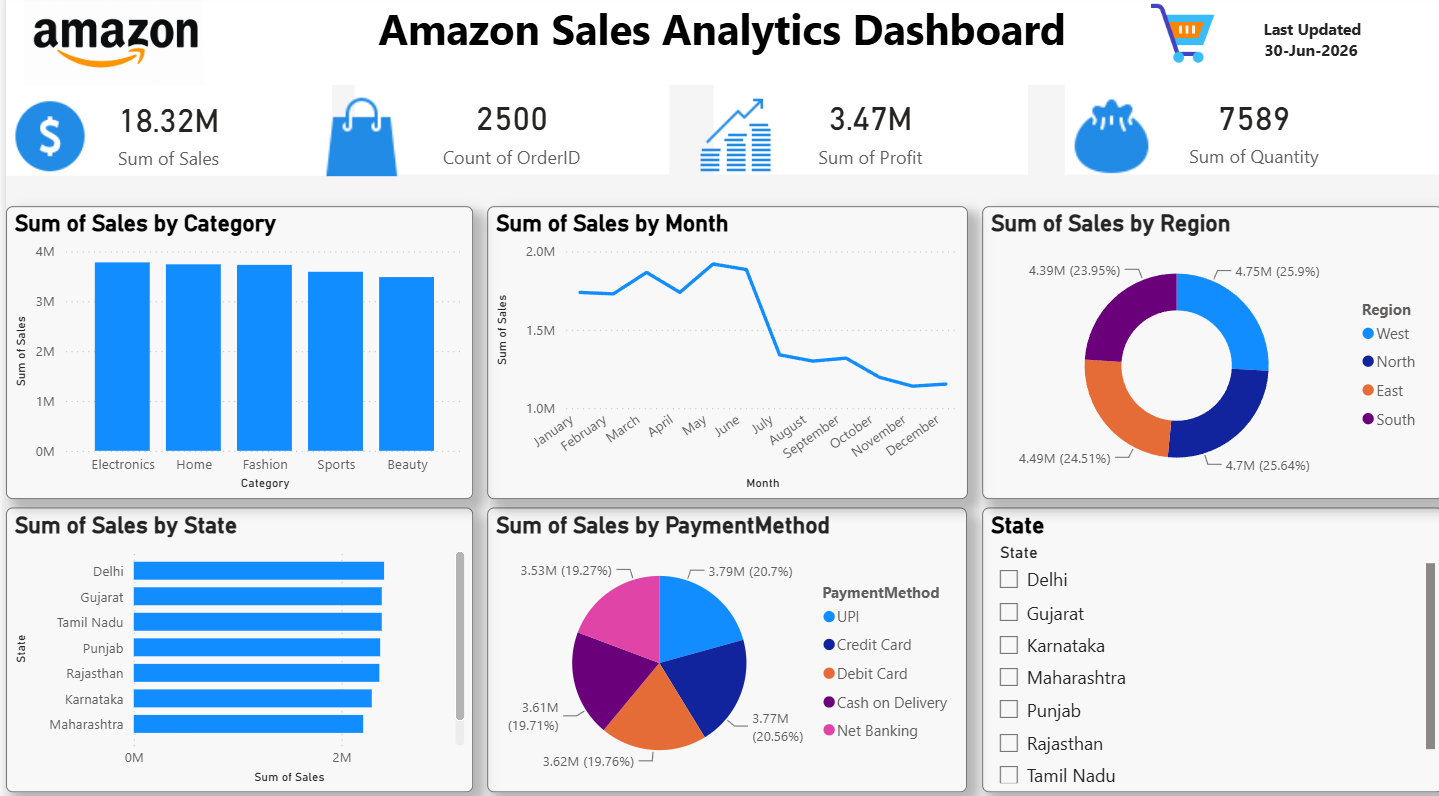

This screenshot's page, from the dashboard's own definition file:
{"tool":"powerbi","page":{"name":"Page 1","canvas":[1280,720],"ordinal":0},"visuals":[{"type":"card","fields":{"Values":["Sum(AmazonSales.Sales)"]},"box":[0,80,290,81.1],"z":0},{"type":"card","fields":{"Values":["Sum(AmazonSales.Profit)"]},"box":[629.8,79.6,279.9,81],"z":1000},{"type":"card","fields":{"Values":["Sum(AmazonSales.Quantity)"]},"box":[942.8,79.5,337.5,80.7],"z":2000},{"type":"card","fields":{"Values":["CountNonNull(AmazonSales.OrderID)"]},"box":[310.1,79.6,279.9,81],"z":3000},{"type":"clusteredColumnChart","fields":{"Category":["AmazonSales.Category"],"Y":["Sum(AmazonSales.Sales)"]},"box":[0,188.2,416.2,260.6],"z":4000},{"type":"clusteredBarChart","fields":{"Category":["AmazonSales.State"],"Y":["Sum(AmazonSales.Sales)"]},"box":[0,456.4,416.3,253.8],"z":5000},{"type":"pieChart","fields":{"Category":["AmazonSales.PaymentMethod"],"Y":["Sum(AmazonSales.Sales)"]},"box":[428.6,456.4,427.5,253.8],"z":6000},{"type":"lineChart","fields":{"Y":["Sum(AmazonSales.Sales)"],"Category":["AmazonSales.OrderDate.Variation.Date Hierarchy.Month"]},"box":[428.3,188.2,428.3,260.6],"z":7000},{"type":"slicer","title":"State","fields":{"Values":["AmazonSales.State"]},"box":[869.4,456.4,410.8,253.8],"z":8000},{"type":"donutChart","fields":{"Category":["AmazonSales.Region"],"Y":["Sum(AmazonSales.Sales)"]},"box":[869.8,188.2,410.2,260.6],"z":9000},{"type":"textbox","box":[0,0,1280,80],"z":10000},{"type":"image","box":[1011.1,0,76.7,64.4],"z":11000},{"type":"textbox","box":[1096.9,15.9,163.9,48.9],"z":12000},{"type":"image","box":[0,90.5,78.4,71.2],"z":13000},{"type":"image","box":[271.4,90.5,90.5,71.2],"z":14000},{"type":"image","box":[541.7,90.5,216,71.2],"z":15000},{"type":"image","box":[890.4,90.5,188.2,71.2],"z":16000},{"type":"image","box":[0,0,191.8,80],"z":17000}]}

Visuals, with their boxes in screenshot pixels (x1, y1, x2, y2), scaled from the page's 1280x720 canvas onto the 1439x796 screenshot:
card - Sum(AmazonSales.Sales): locate(0, 88, 326, 178)
card - Sum(AmazonSales.Profit): locate(708, 88, 1023, 178)
card - Sum(AmazonSales.Quantity): locate(1060, 88, 1438, 177)
card - CountNonNull(AmazonSales.OrderID): locate(349, 88, 663, 178)
clusteredColumnChart - AmazonSales.Category x Sum(AmazonSales.Sales): locate(0, 208, 468, 496)
clusteredBarChart - AmazonSales.State x Sum(AmazonSales.Sales): locate(0, 505, 468, 785)
pieChart - AmazonSales.PaymentMethod x Sum(AmazonSales.Sales): locate(482, 505, 962, 785)
lineChart - Sum(AmazonSales.Sales) x AmazonSales.OrderDate.Variation.Date Hierarchy.Month: locate(482, 208, 963, 496)
"State" slicer: locate(977, 505, 1438, 785)
donutChart - AmazonSales.Region x Sum(AmazonSales.Sales): locate(978, 208, 1438, 496)
textbox: locate(0, 0, 1438, 88)
image: locate(1137, 0, 1223, 71)
textbox: locate(1233, 18, 1417, 72)
image: locate(0, 100, 88, 179)
image: locate(305, 100, 407, 179)
image: locate(609, 100, 852, 179)
image: locate(1001, 100, 1213, 179)
image: locate(0, 0, 216, 88)
